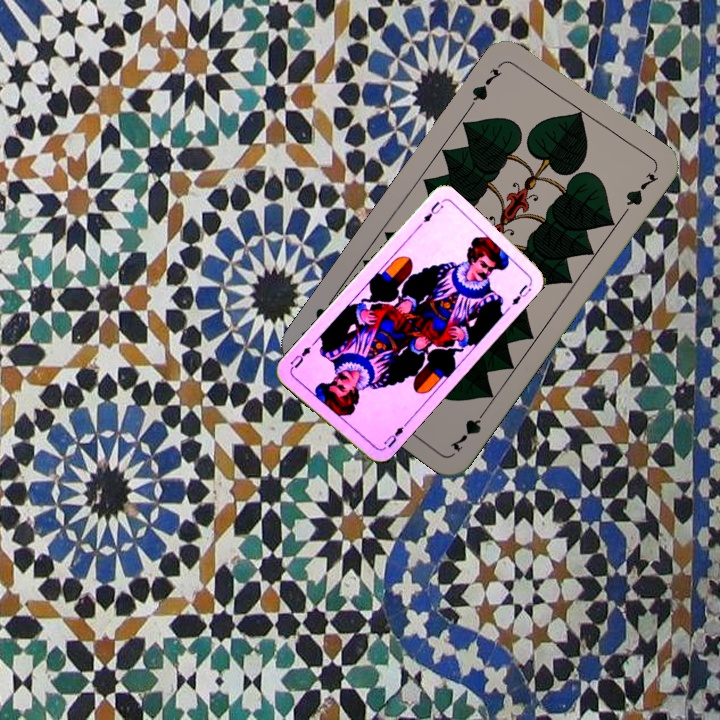EU: (379, 422, 406, 450), (419, 197, 446, 225)
G7: (446, 403, 491, 455), (466, 58, 506, 109)
